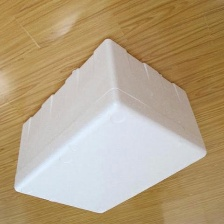foam_box: (9, 34, 211, 218)
